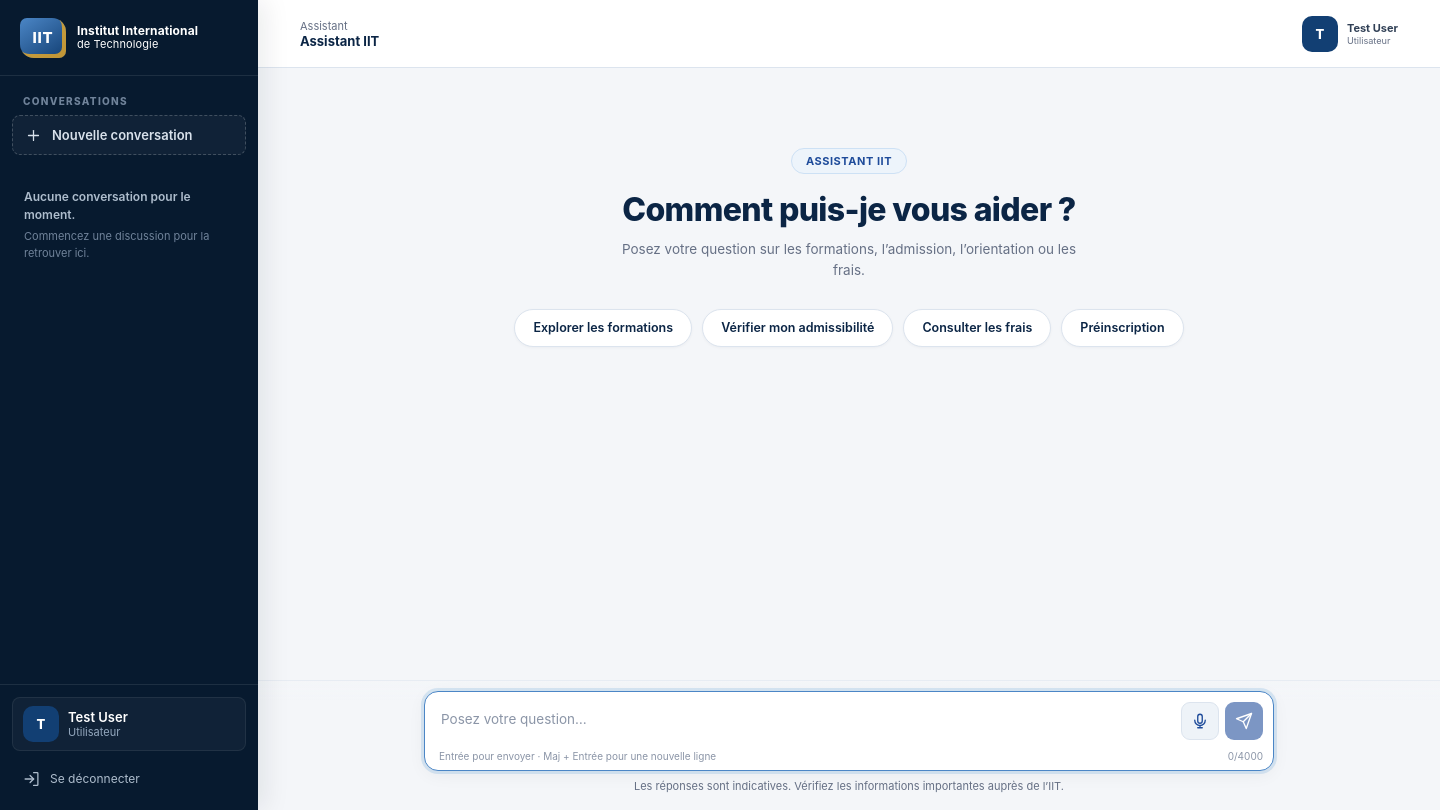
Scenario: ChatPage › records on first click and transcribes on second click
This screenshot has width=1440, height=810.
Click the button named "Démarrer l’enregistrement vocal".
click(1200, 721)  # box [1181,702,1219,740]
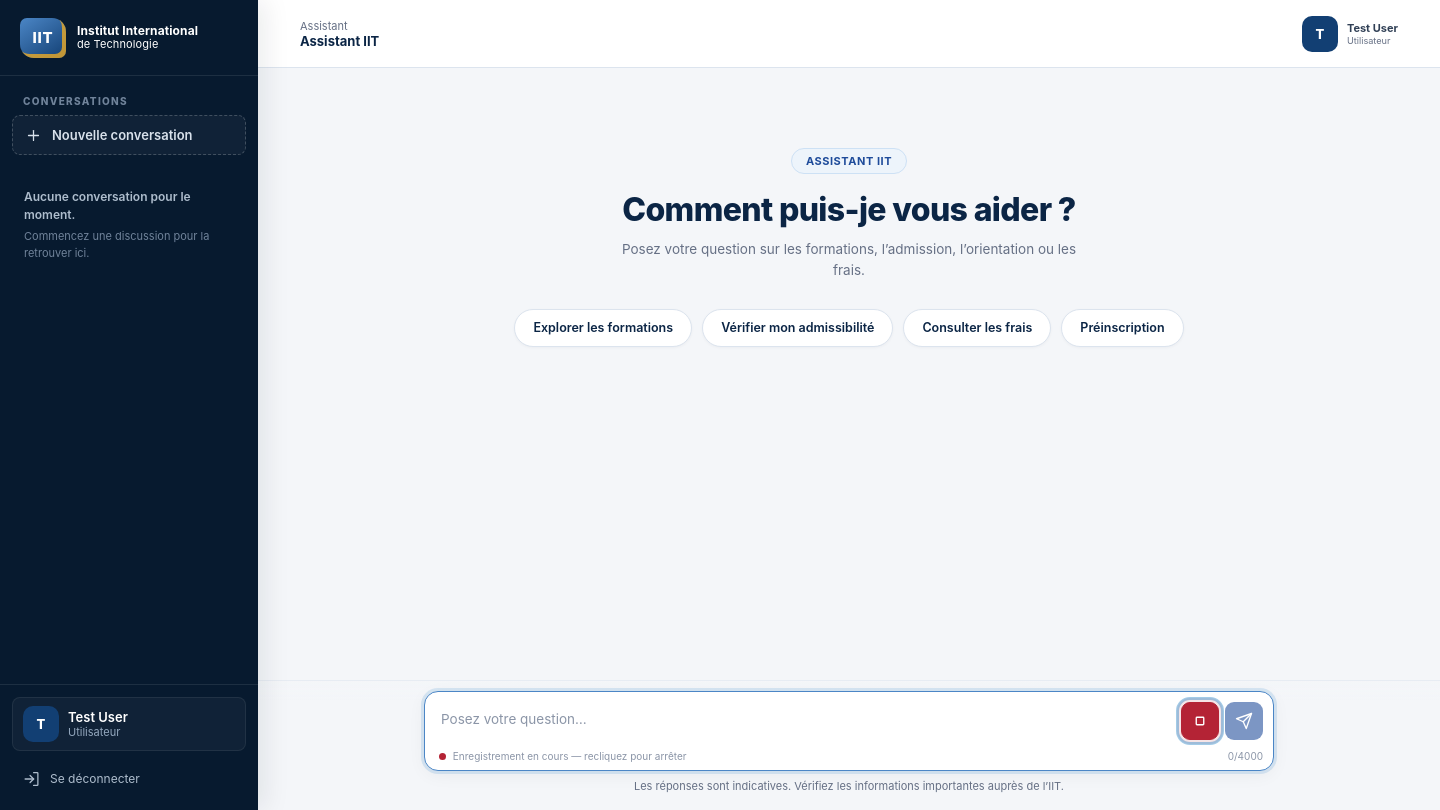
expect the button named "Arrêter l’enregistrement vocal" is shown: met
expect the text "Enregistrement en cours — recliquez pour arrêter" is shown: met, box [439,750,686,762]
Click the button named "Arrêter l’enregistrement vocal".
click(1200, 721)  # box [1181,702,1219,740]
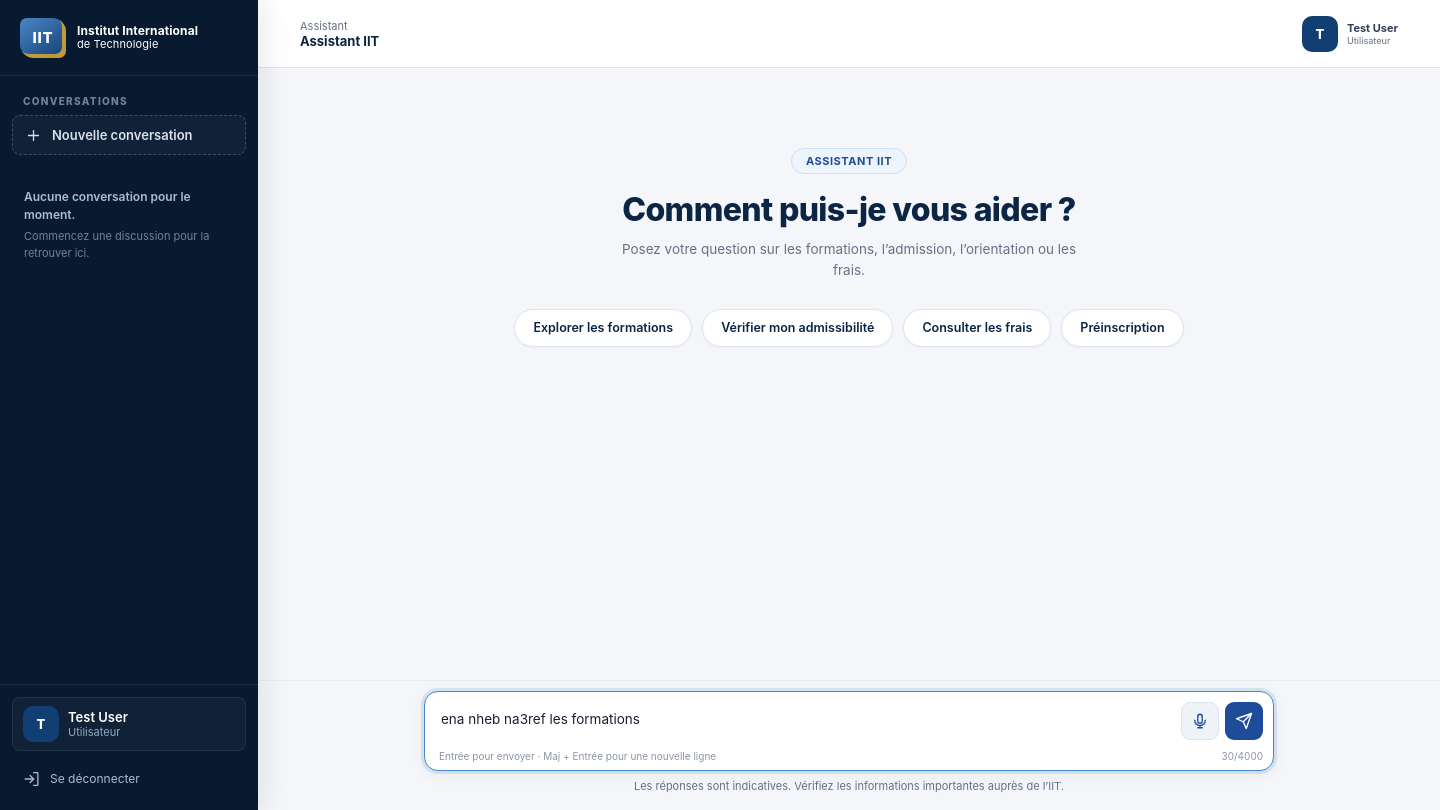
expect the text box named "Votre message" holds "ena nheb na3ref les formations": met, box [439,702,1173,740]
